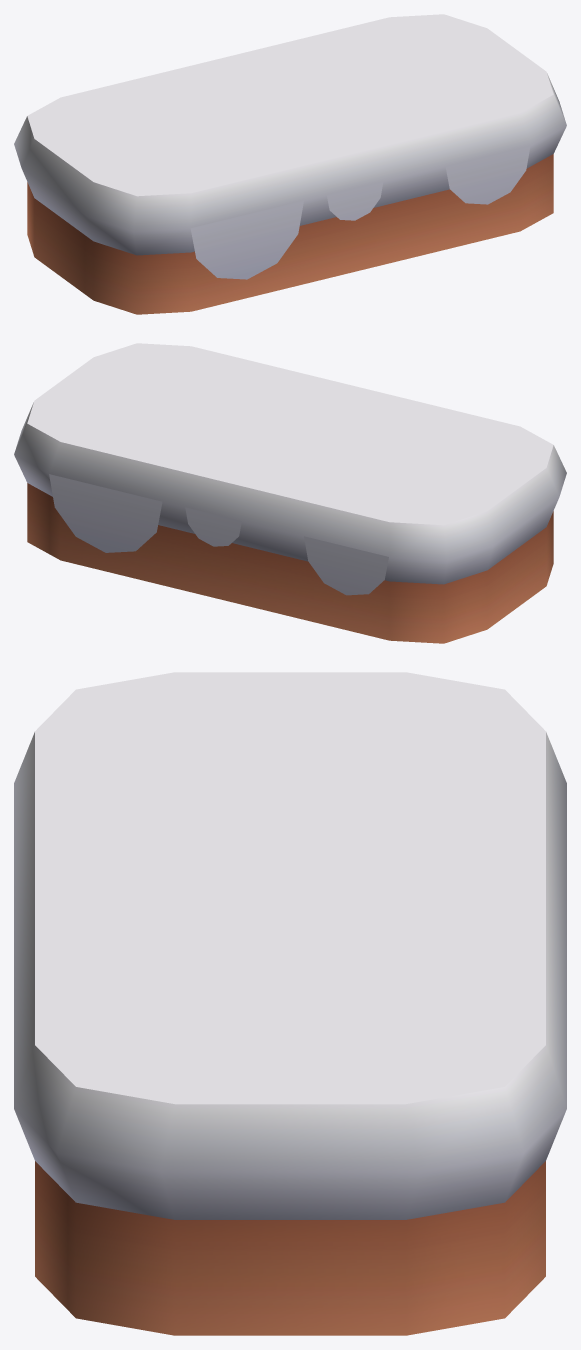
Rendered from kenney-platformer-block-snow-overhang-low-long.glb.
3 views of the same model, one above another, from view 1: azimuth 30°, elevation 25°; view 2: azimuth 150°, elevation 25°; view 3: azimuth 270°, elevation 25° (orthographic). The views are drawn at different scales.
Visible parts, largest first — view 1: block-snow-overhang-low-long; view 2: block-snow-overhang-low-long; view 3: block-snow-overhang-low-long.
Part boxes in pixels (<box>): block-snow-overhang-low-long: <box>14,14,566,314</box>; block-snow-overhang-low-long: <box>14,343,566,643</box>; block-snow-overhang-low-long: <box>14,672,566,1335</box>.
Size of the model in its own units: 2.08 by 0.5 by 1.08.
1 material, 1 textured.
